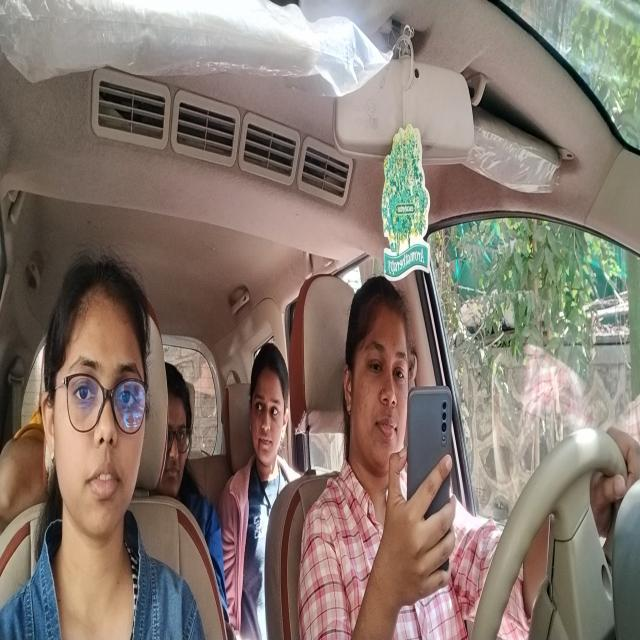mobile: (402, 387, 458, 557)
person: (49, 270, 149, 522), (347, 298, 408, 472), (249, 344, 287, 469), (164, 366, 194, 490)
